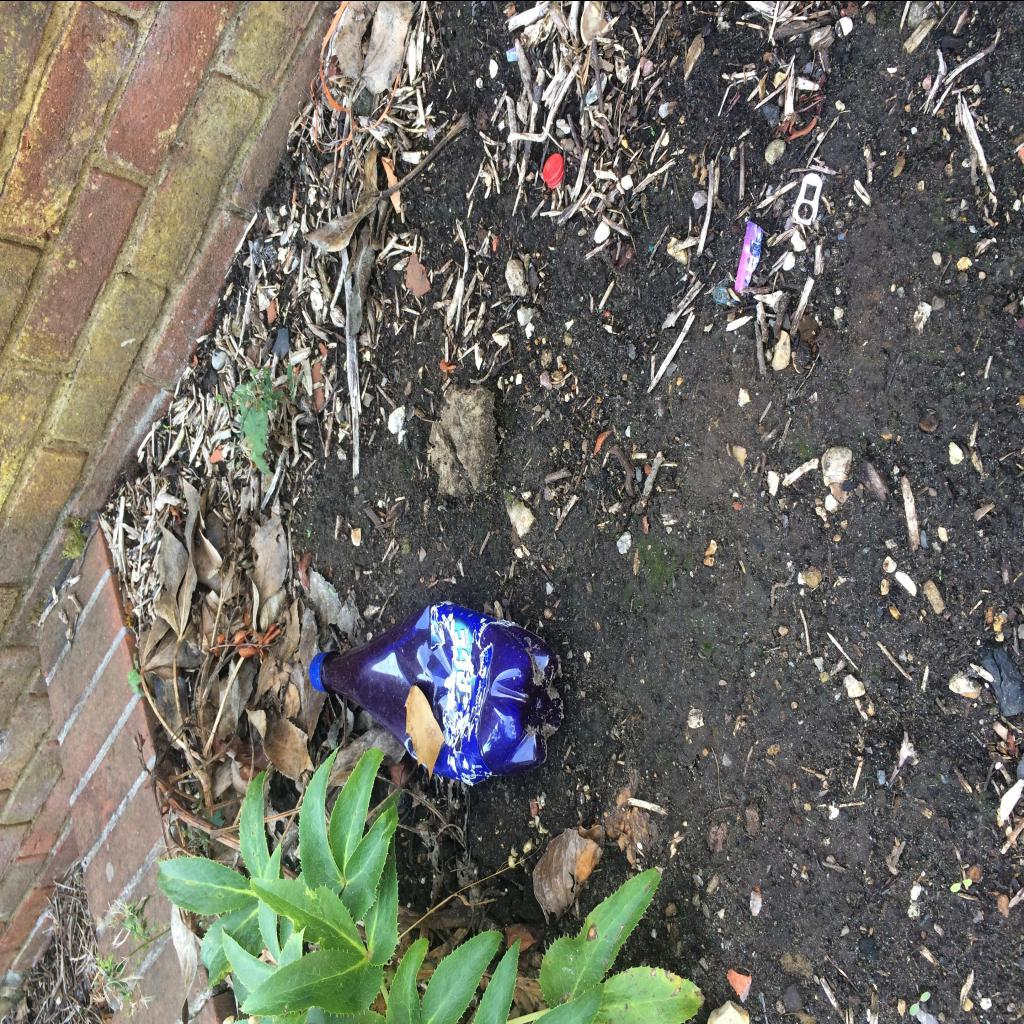Clear plastic bottle: (308, 598, 564, 785)
Metal bottle cap: (543, 152, 564, 188)
Other plastic: (735, 218, 763, 292)
Plastic bottle cap: (310, 650, 326, 690)
Pop tab: (792, 172, 822, 224)
